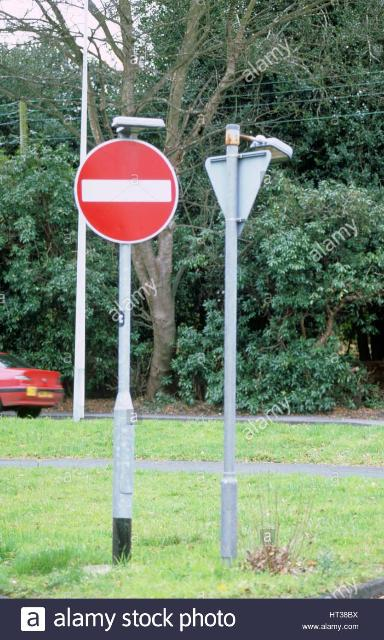B2: (73, 138, 179, 245)
